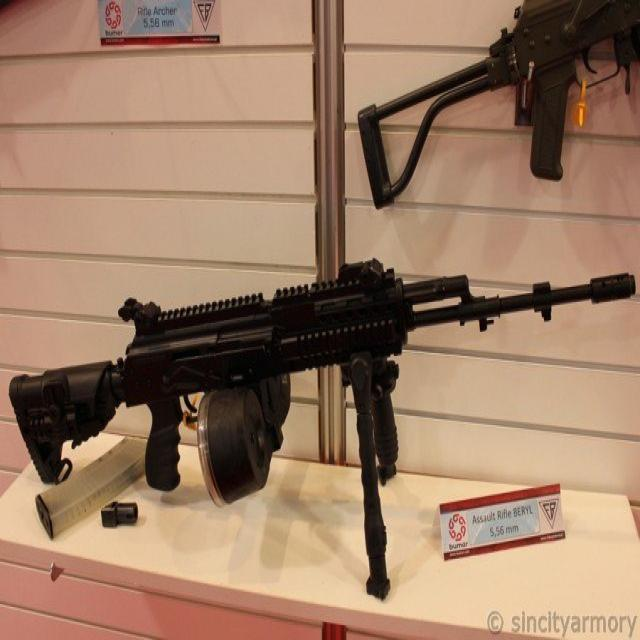firearm: (7, 256, 639, 603), (355, 0, 640, 213)
